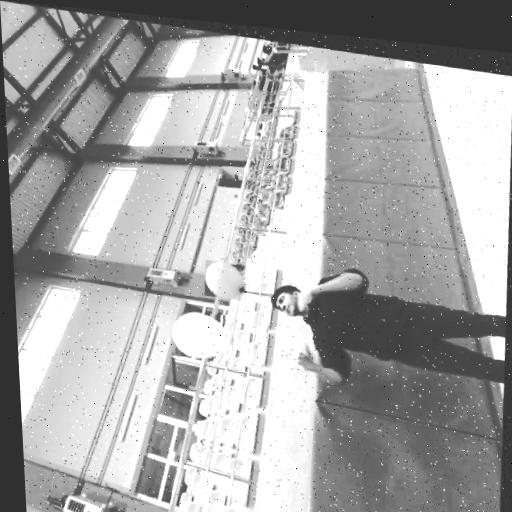balloon: (173, 305, 242, 362), (207, 257, 253, 299)
